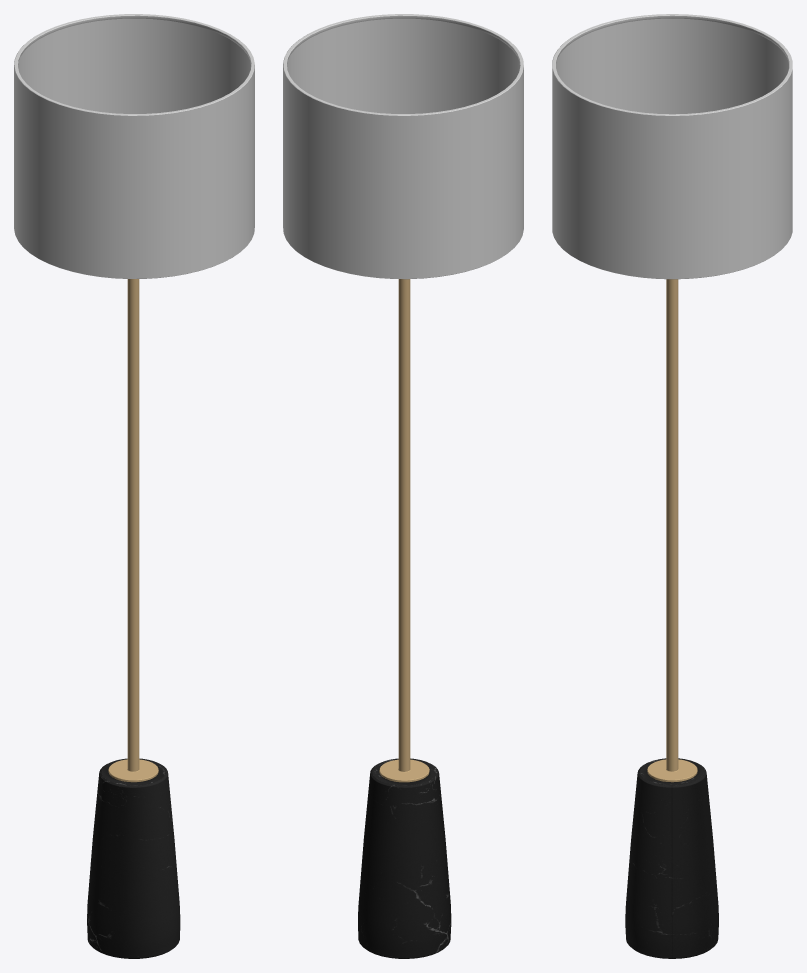
File: lamp-4-draco.glb
3 views of the same model, side by side, from view 1: azimuth 30°, elevation 25°; view 2: azimuth 150°, elevation 25°; view 3: azimuth 270°, elevation 25° (orthographic).
Parts seen in each view (by area): view 1: Rita_Floor_Lamp_BlackMarble_and_Brass_LAMP_SHADE_0, Rita_Floor_Lamp_BlackMarble_and_Brass_MARBLE_0, Rita_Floor_Lamp_BlackMarble_and_Brass_BRASS_0; view 2: Rita_Floor_Lamp_BlackMarble_and_Brass_LAMP_SHADE_0, Rita_Floor_Lamp_BlackMarble_and_Brass_MARBLE_0, Rita_Floor_Lamp_BlackMarble_and_Brass_BRASS_0; view 3: Rita_Floor_Lamp_BlackMarble_and_Brass_LAMP_SHADE_0, Rita_Floor_Lamp_BlackMarble_and_Brass_MARBLE_0, Rita_Floor_Lamp_BlackMarble_and_Brass_BRASS_0.
Boxes of the visible parts, x1=… form: Rita_Floor_Lamp_BlackMarble_and_Brass_LAMP_SHADE_0: x1=14, y1=14, x2=254, y2=278; Rita_Floor_Lamp_BlackMarble_and_Brass_MARBLE_0: x1=87, y1=758, x2=180, y2=958; Rita_Floor_Lamp_BlackMarble_and_Brass_BRASS_0: x1=108, y1=279, x2=158, y2=782; Rita_Floor_Lamp_BlackMarble_and_Brass_LAMP_SHADE_0: x1=283, y1=14, x2=523, y2=279; Rita_Floor_Lamp_BlackMarble_and_Brass_MARBLE_0: x1=358, y1=758, x2=451, y2=958; Rita_Floor_Lamp_BlackMarble_and_Brass_BRASS_0: x1=379, y1=279, x2=429, y2=782; Rita_Floor_Lamp_BlackMarble_and_Brass_LAMP_SHADE_0: x1=552, y1=14, x2=792, y2=279; Rita_Floor_Lamp_BlackMarble_and_Brass_MARBLE_0: x1=625, y1=758, x2=718, y2=958; Rita_Floor_Lamp_BlackMarble_and_Brass_BRASS_0: x1=647, y1=279, x2=697, y2=782.
Size of the model in its own units: 40 by 160 by 39.92.
Materials: 4 (1 with a texture image).
